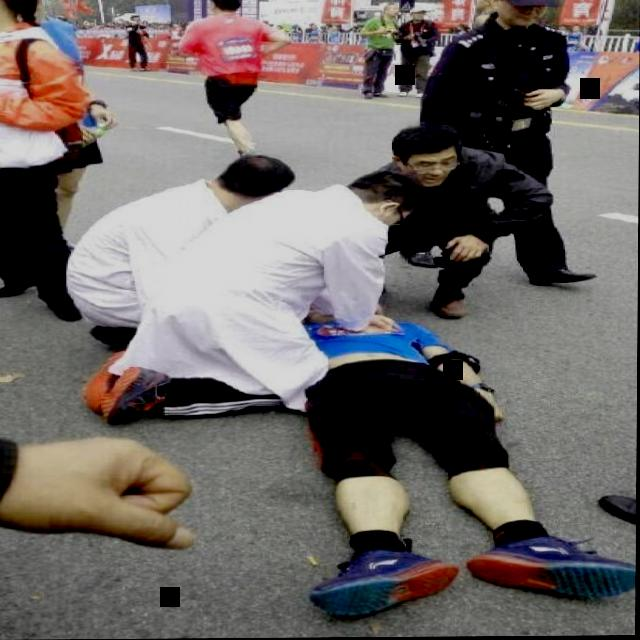Fall-Detected: (268, 288, 638, 620)
